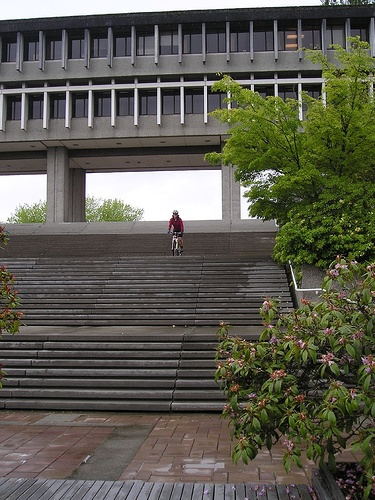stairs_up: (1, 247, 290, 419)
